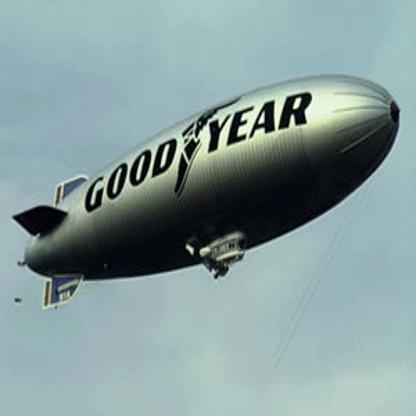Airship: (11, 72, 405, 312)
